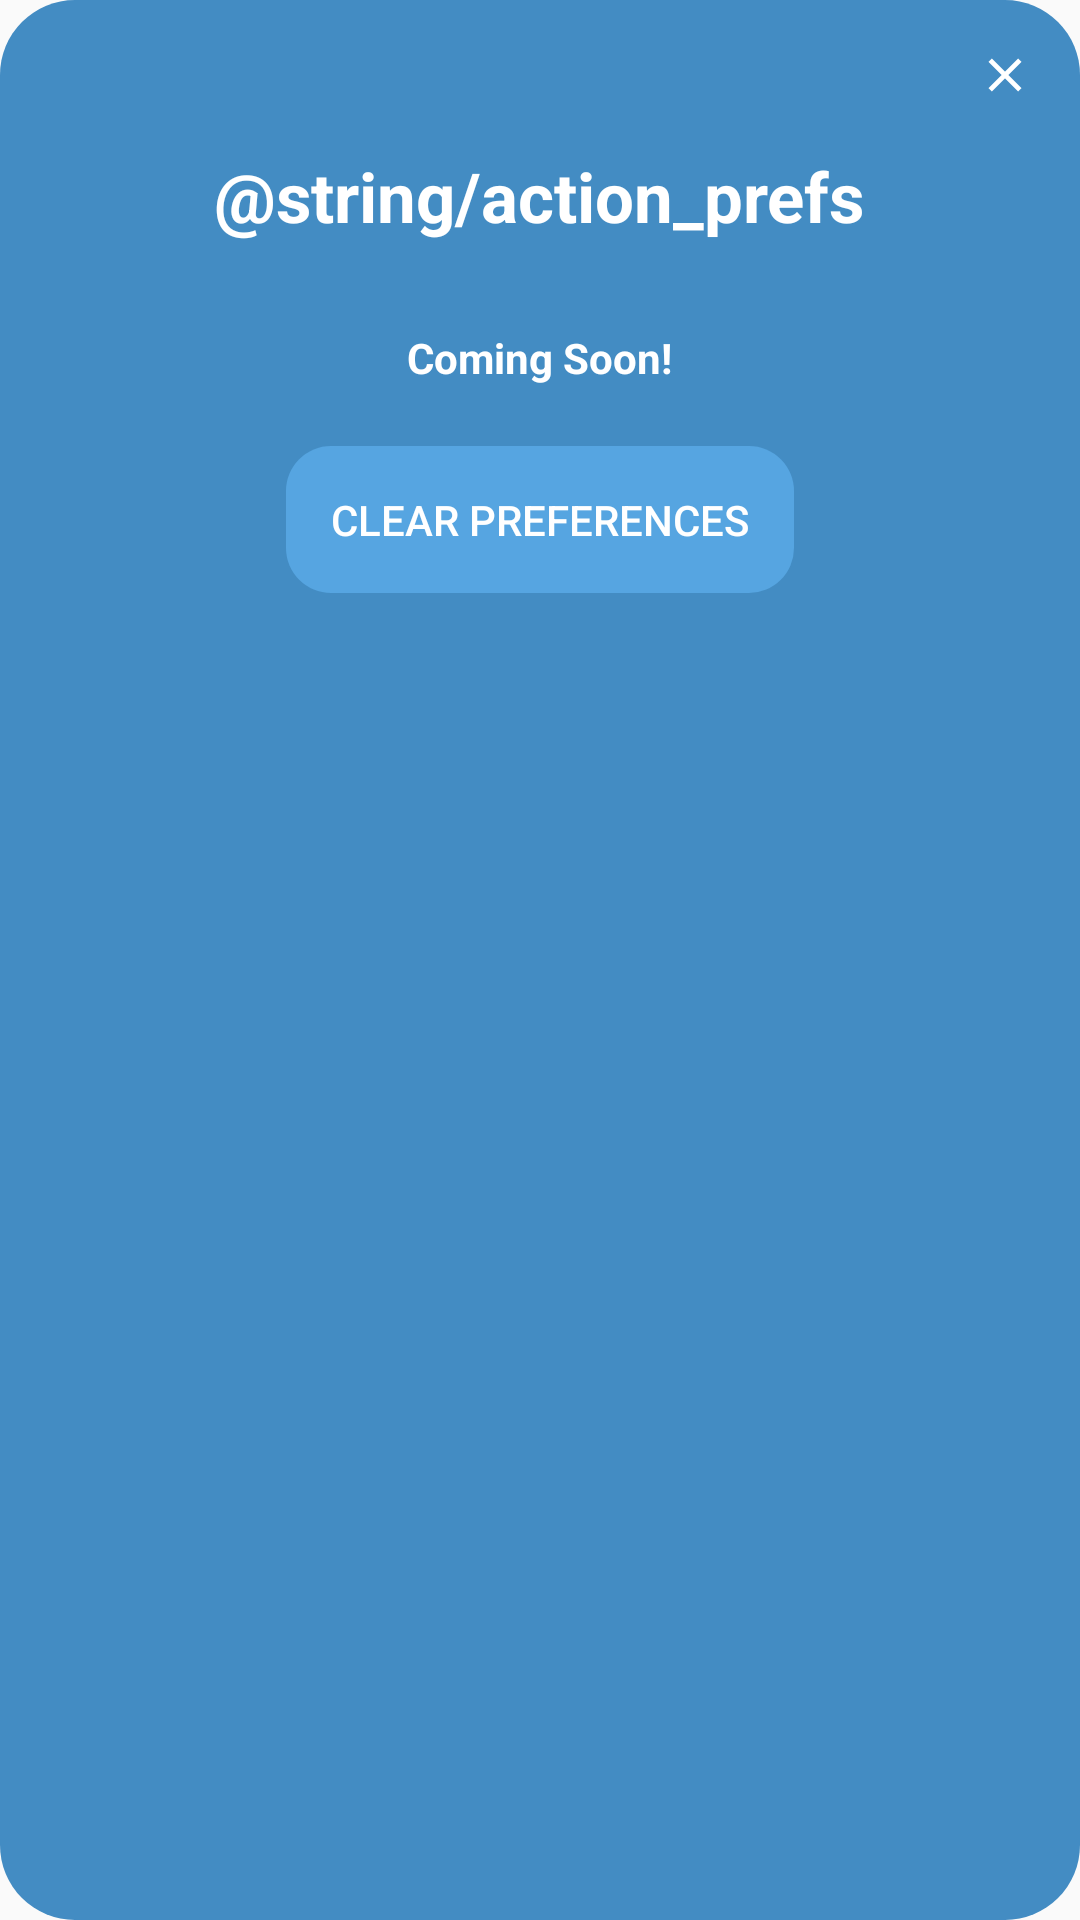

Where icons sit on this 1080w x 1920h app screen, as (x1, y1, x2, y2):
Close: (988, 58, 1022, 92)
